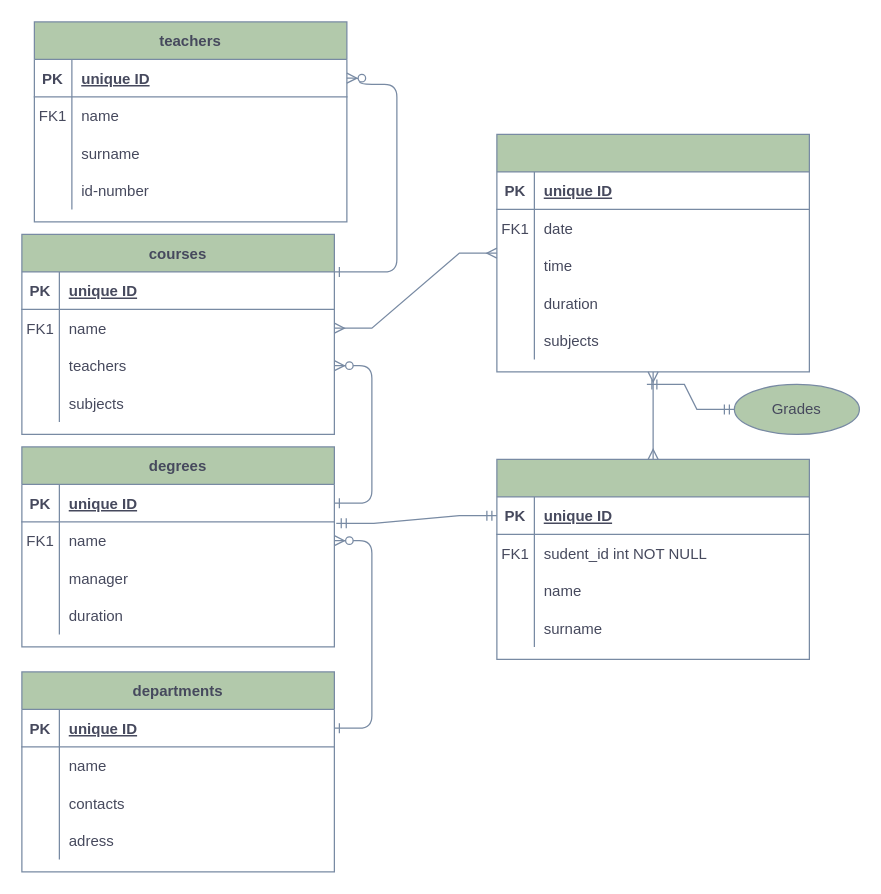
This 881x894 diagram has some shape labels left out. The box of each missing label's shape, as (x1, y1, x2, y2) in pixels:
exams-dates: (496, 133, 809, 372)
students: (496, 458, 809, 659)
